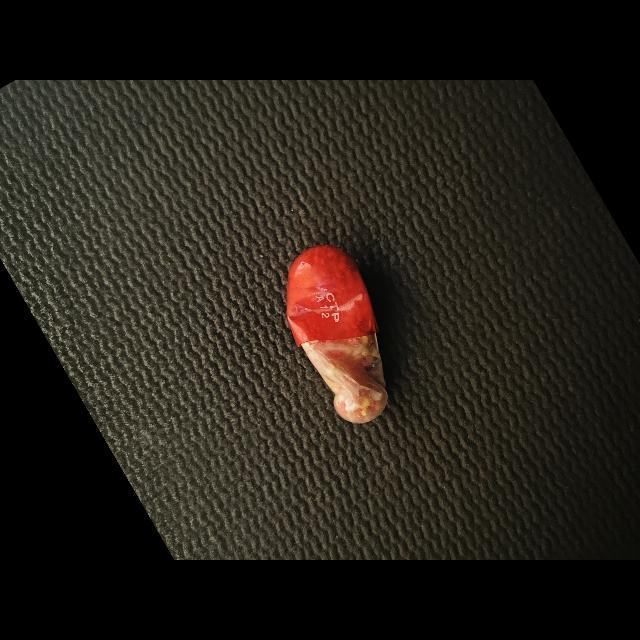Defective Capsule: (287, 245, 387, 423)
